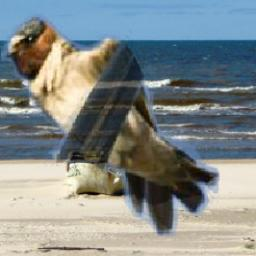Swallow: (1, 14, 220, 236)
